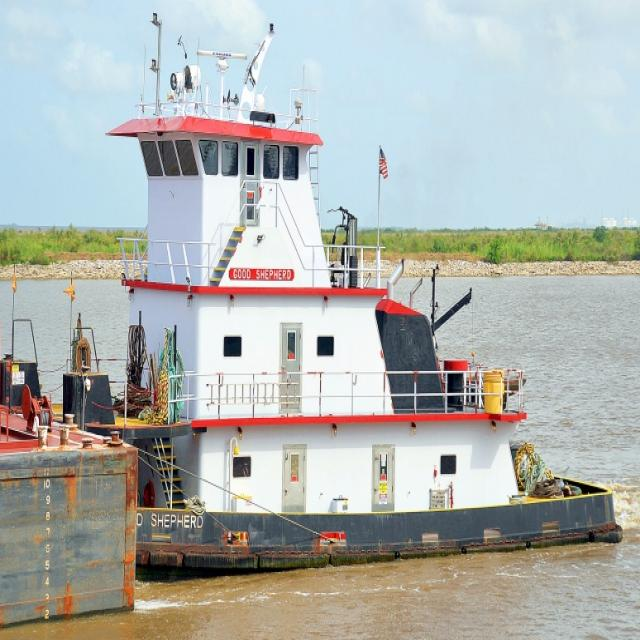tugboat: (1, 40, 631, 588)
